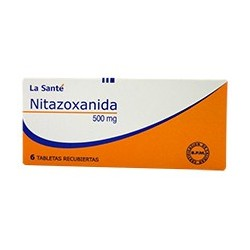LaSante: (24, 79, 224, 169)
